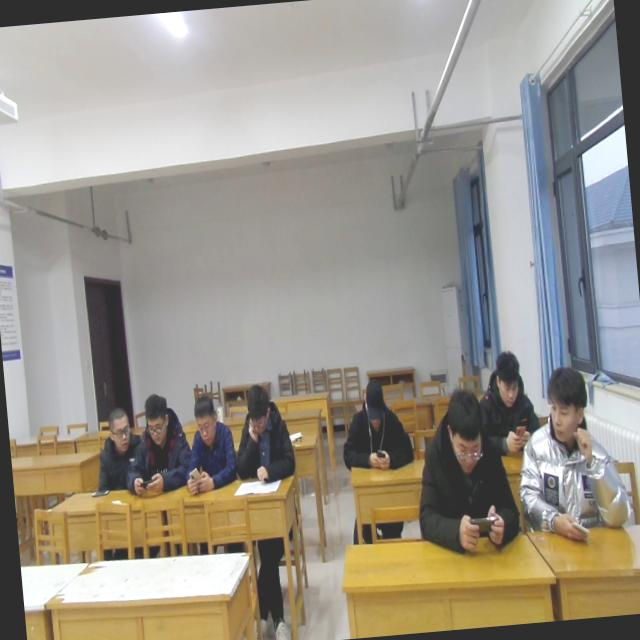down: (441, 384, 488, 476), (491, 349, 526, 412), (139, 388, 174, 447), (242, 379, 274, 438), (359, 374, 390, 432), (190, 394, 222, 450)
sit: (508, 359, 634, 549), (408, 385, 522, 558), (476, 348, 547, 457), (334, 376, 415, 471), (121, 390, 194, 494), (227, 381, 298, 486), (180, 394, 240, 494), (88, 401, 145, 491)
